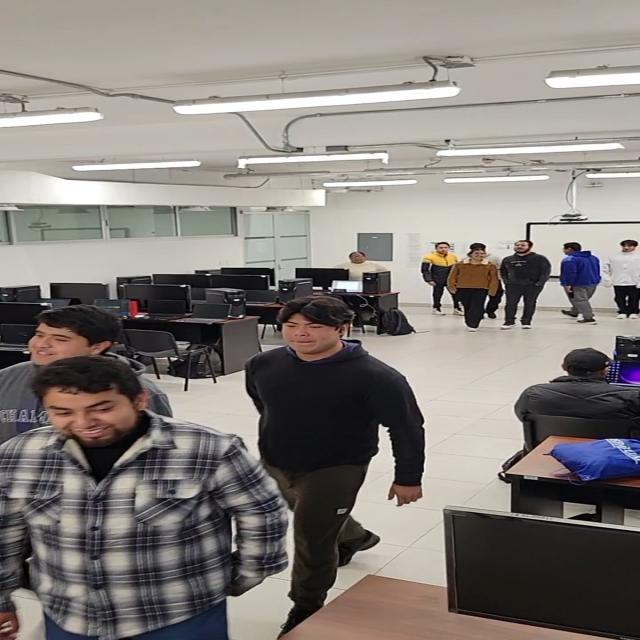Persona: (0, 358, 244, 640), (249, 295, 422, 636), (502, 238, 548, 330), (449, 248, 498, 333), (556, 242, 604, 328), (605, 239, 640, 321), (422, 240, 450, 316)
